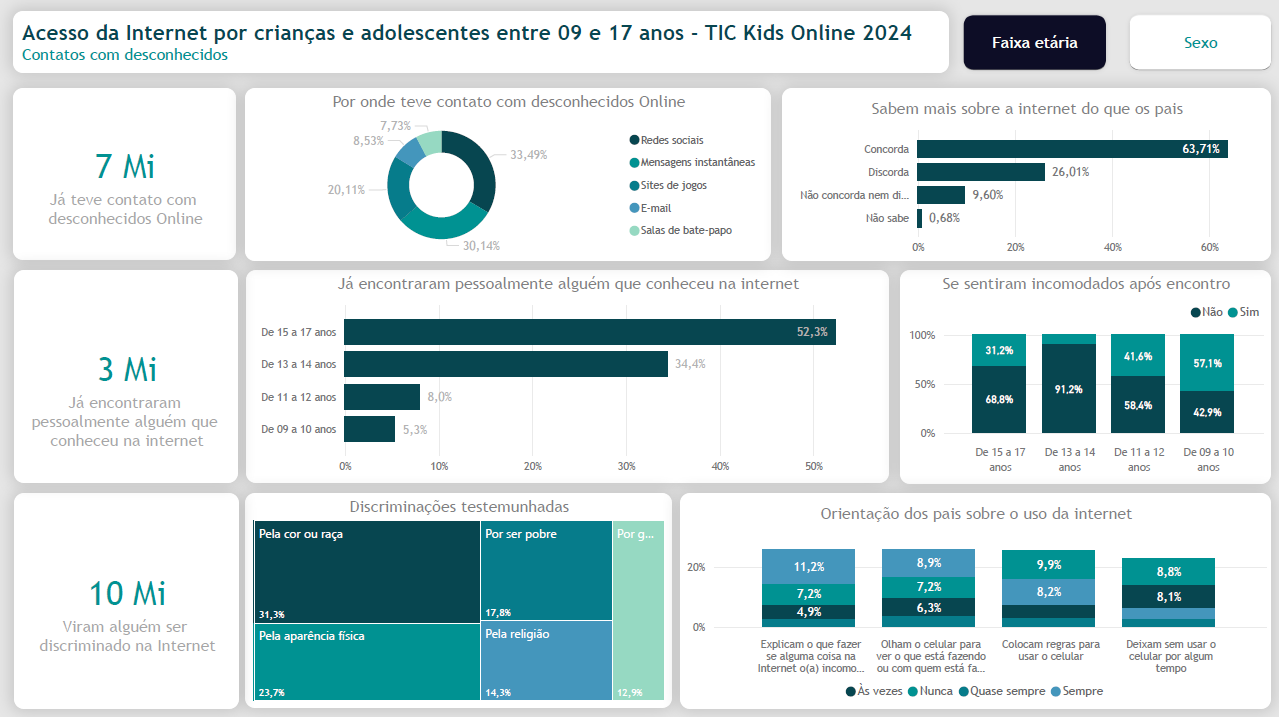

The page's visual inventory and layout, read from the dashboard file:
{"tool":"powerbi","page":{"name":"Contato com desconhecidos","canvas":[1280,720],"ordinal":2},"visuals":[{"type":"card","fields":{"Values":["Sum(5- Contato com desconhecidos na.Valor)"]},"box":[13.4,88,222.5,172.5],"z":0},{"type":"clusteredBarChart","title":"Já encontraram pessoalmente alguém que conheceu na internet","fields":{"Y":["Sum(5- Contato pessoalmente com pes.Valor)"],"Category":["5- Contato pessoalmente com pes.Categoria"]},"box":[245.7,269.9,643.6,213.6],"z":1000},{"type":"donutChart","title":"Por onde teve contato com desconhecidos Online","fields":{"Category":["5- Por onde tiveram contato com.Resposta"],"Y":["Sum(5- Por onde tiveram contato com.Valor)"]},"box":[245.4,87.8,525.7,172.9],"z":2000},{"type":"hundredPercentStackedColumnChart","title":"Se sentiram incomodados após encontro","fields":{"Category":["5- se sentiram incomodados pós.Categoria"],"Y":["Sum(5- se sentiram incomodados pós.Valor)"],"Series":["5- se sentiram incomodados pós.Resposta"]},"box":[900,269.7,371,214],"z":3000},{"type":"treemap","title":"Discriminações testemunhadas","fields":{"Group":["7- Tipos de discriminação teste.Resposta"],"Values":["Sum(7- Tipos de discriminação teste.Valor)"]},"box":[245.4,493.1,426.9,215.4],"z":4000},{"type":"card","fields":{"Values":["Sum(7- Viram alguem ser discriminad.Valor)"]},"box":[14.3,492.9,224.3,215.7],"z":5000},{"type":"columnChart","title":"Orientação dos pais sobre o uso da internet","fields":{"Category":["3- Orientação dos pais.Indicador"],"Y":["Sum(3- Orientação dos pais.Valor)"],"Series":["3- Orientação dos pais.Resposta"]},"box":[680,492.9,591.4,215.7],"z":6000},{"type":"barChart","title":"Sabem mais sobre a internet do que os pais","fields":{"Y":["Sum(3- Percep  sobre habilidades no.Valor)"],"Category":["3- Percep  sobre habilidades no.Resposta"]},"box":[782.5,87.8,488.6,172.9],"z":7000},{"type":"textbox","box":[12.9,11.4,935.7,61.4],"z":9000},{"type":"card","fields":{"Values":["Sum(5- Contato pessoalmente com pes.Valor)"]},"box":[13.8,270.2,223.8,212.5],"z":10000},{"type":"advancedSlicerVisual","fields":{"Values":["1 Ja acessou internet.TipoCategoria"]},"box":[956.6,8.3,323.4,68.8],"z":10001}]}

Visuals, with their boxes in screenshot pixels (x1, y1, x2, y2), scaled from the page's 1280x720 canvas onto the 1279x717 screenshot:
card - Sum(5- Contato com desconhecidos na.Valor): (13, 88, 236, 259)
"Já encontraram pessoalmente alguém que conheceu na internet" clusteredBarChart: (246, 269, 889, 481)
"Por onde teve contato com desconhecidos Online" donutChart: (245, 87, 770, 260)
"Se sentiram incomodados após encontro" hundredPercentStackedColumnChart: (899, 269, 1270, 482)
"Discriminações testemunhadas" treemap: (245, 491, 672, 706)
card - Sum(7- Viram alguem ser discriminad.Valor): (14, 491, 238, 706)
"Orientação dos pais sobre o uso da internet" columnChart: (679, 491, 1270, 706)
"Sabem mais sobre a internet do que os pais" barChart: (782, 87, 1270, 260)
textbox: (13, 11, 948, 72)
card - Sum(5- Contato pessoalmente com pes.Valor): (14, 269, 237, 481)
advancedSlicerVisual - 1 Ja acessou internet.TipoCategoria: (956, 8, 1278, 77)
